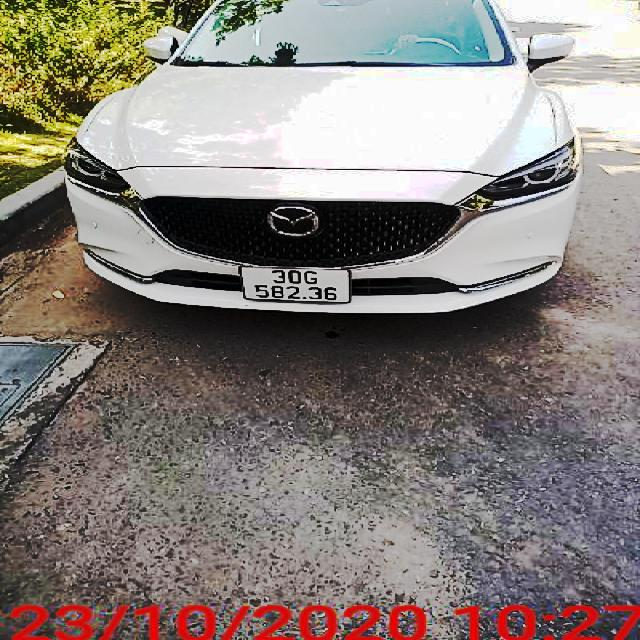license_plate: (240, 268, 351, 304)
